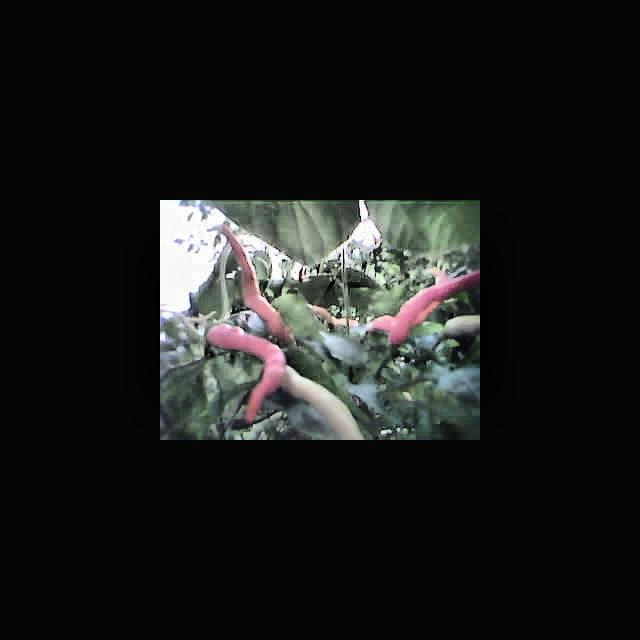Cabai: (217, 228, 304, 337), (215, 319, 283, 409), (360, 267, 478, 313)
